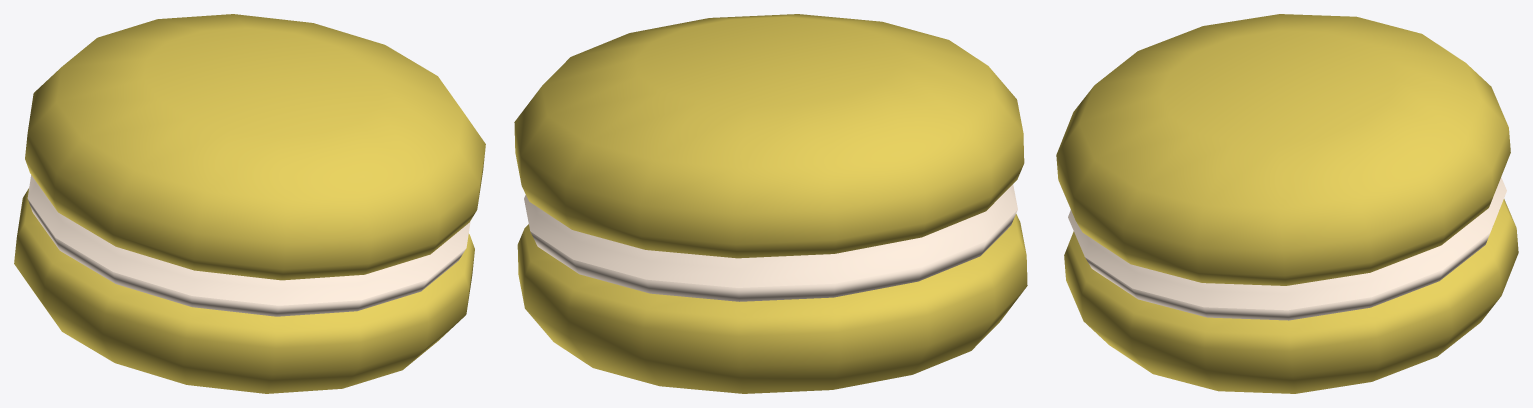
The model's file is SM_macaron_08.glb.
3 renders of one model, left to right at view 1: azimuth 30°, elevation 25°; view 2: azimuth 150°, elevation 25°; view 3: azimuth 270°, elevation 25°, orthographic. The views are drawn at different scales.
Visible parts, largest first — view 1: SM_macaron_08; view 2: SM_macaron_08; view 3: SM_macaron_08.
Boxes of the visible parts, <box> form: SM_macaron_08: <box>14,14,485,393</box>; SM_macaron_08: <box>514,14,1027,393</box>; SM_macaron_08: <box>1056,14,1518,393</box>.
Size of the model in its own units: 0.0923 by 0.0575 by 0.0923.
1 material, 1 textured.
